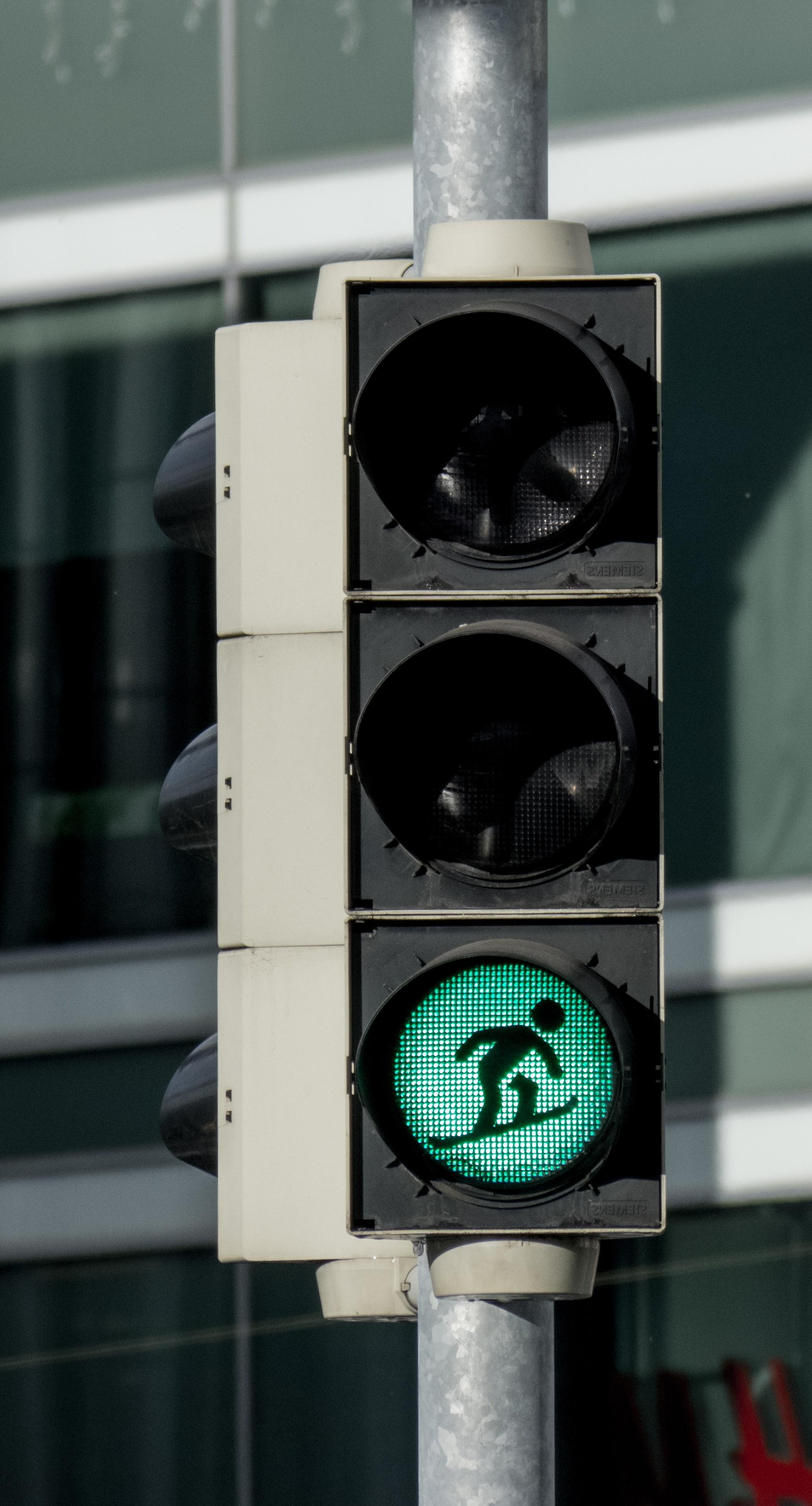green: (275, 267, 695, 1252)
